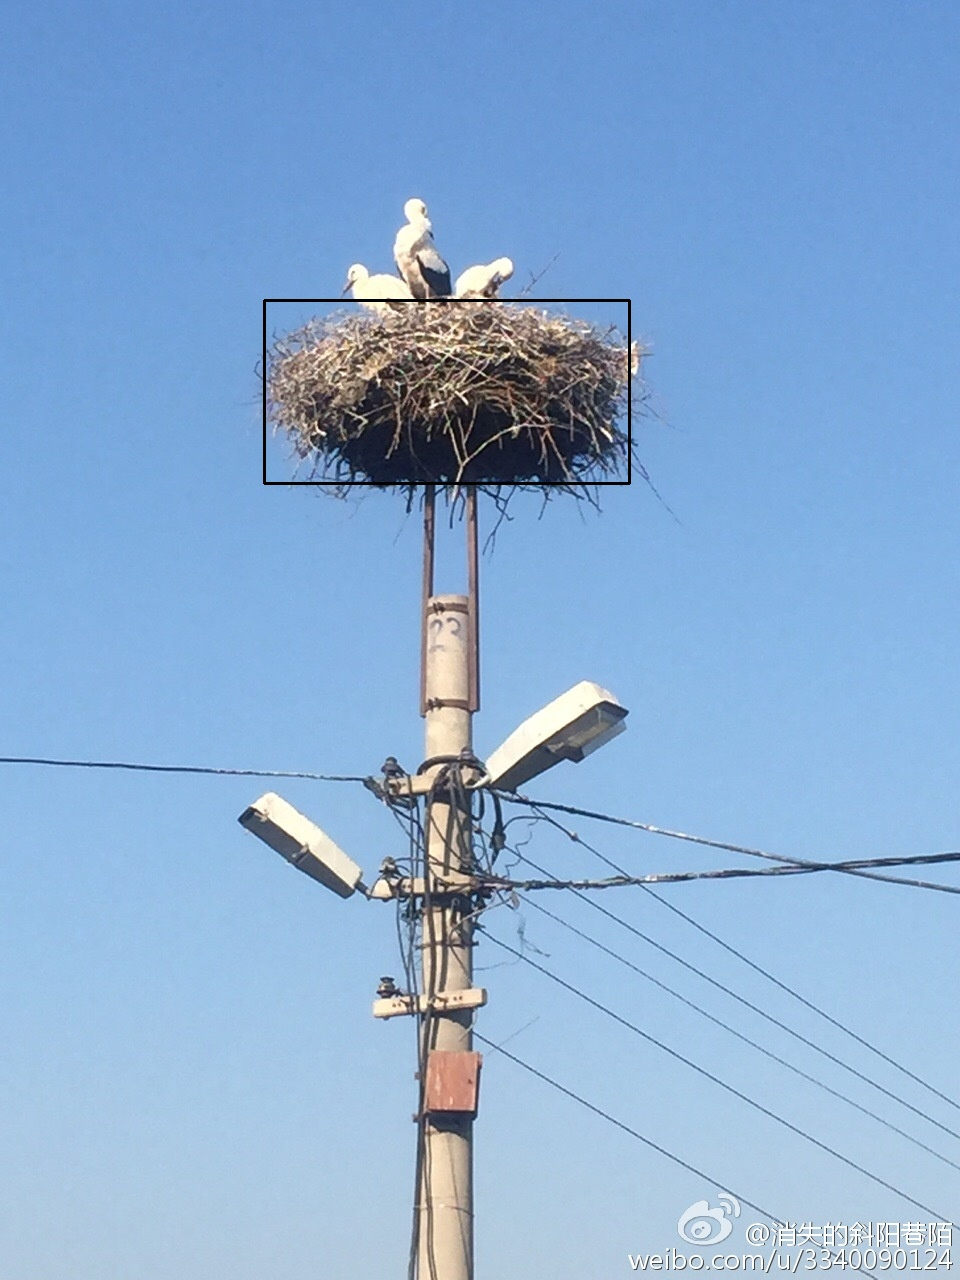bird-nest: (264, 300, 629, 483)
